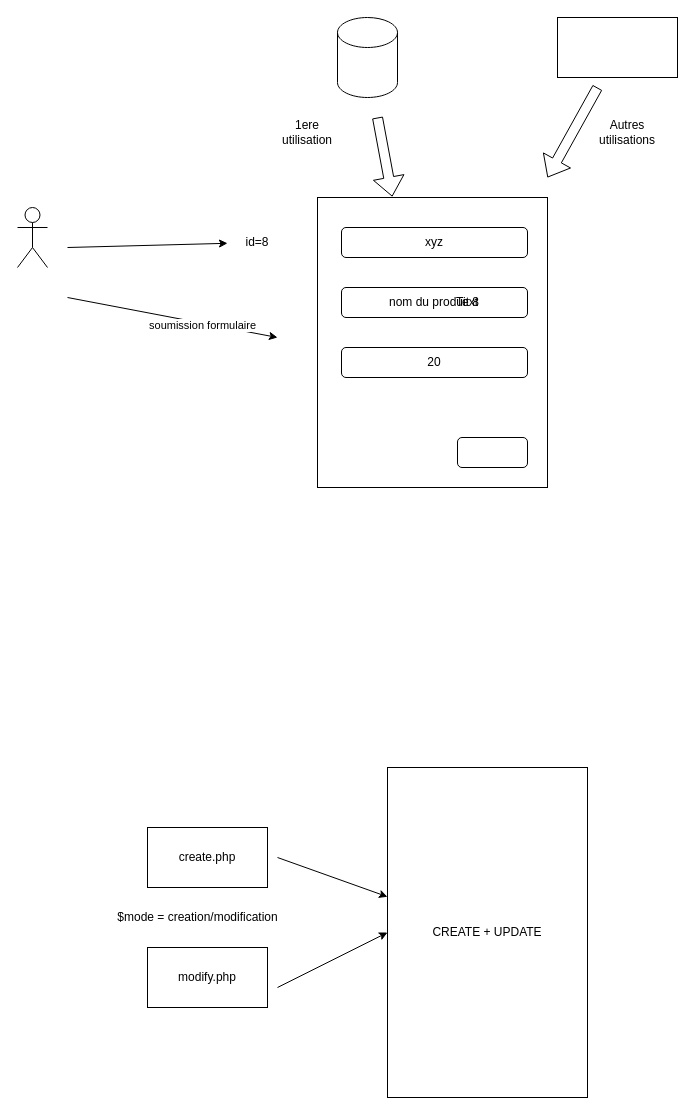
Image size: 695x1115. Some labels were removed from this diagram. The shapes that lost their labels are listed below. From the top down, each one's box as (x1, y1, x2, y2) in pixels, then its label:
(556, 16, 678, 78): $_POST
(16, 206, 48, 268): Actor
(456, 436, 528, 468): Validation
